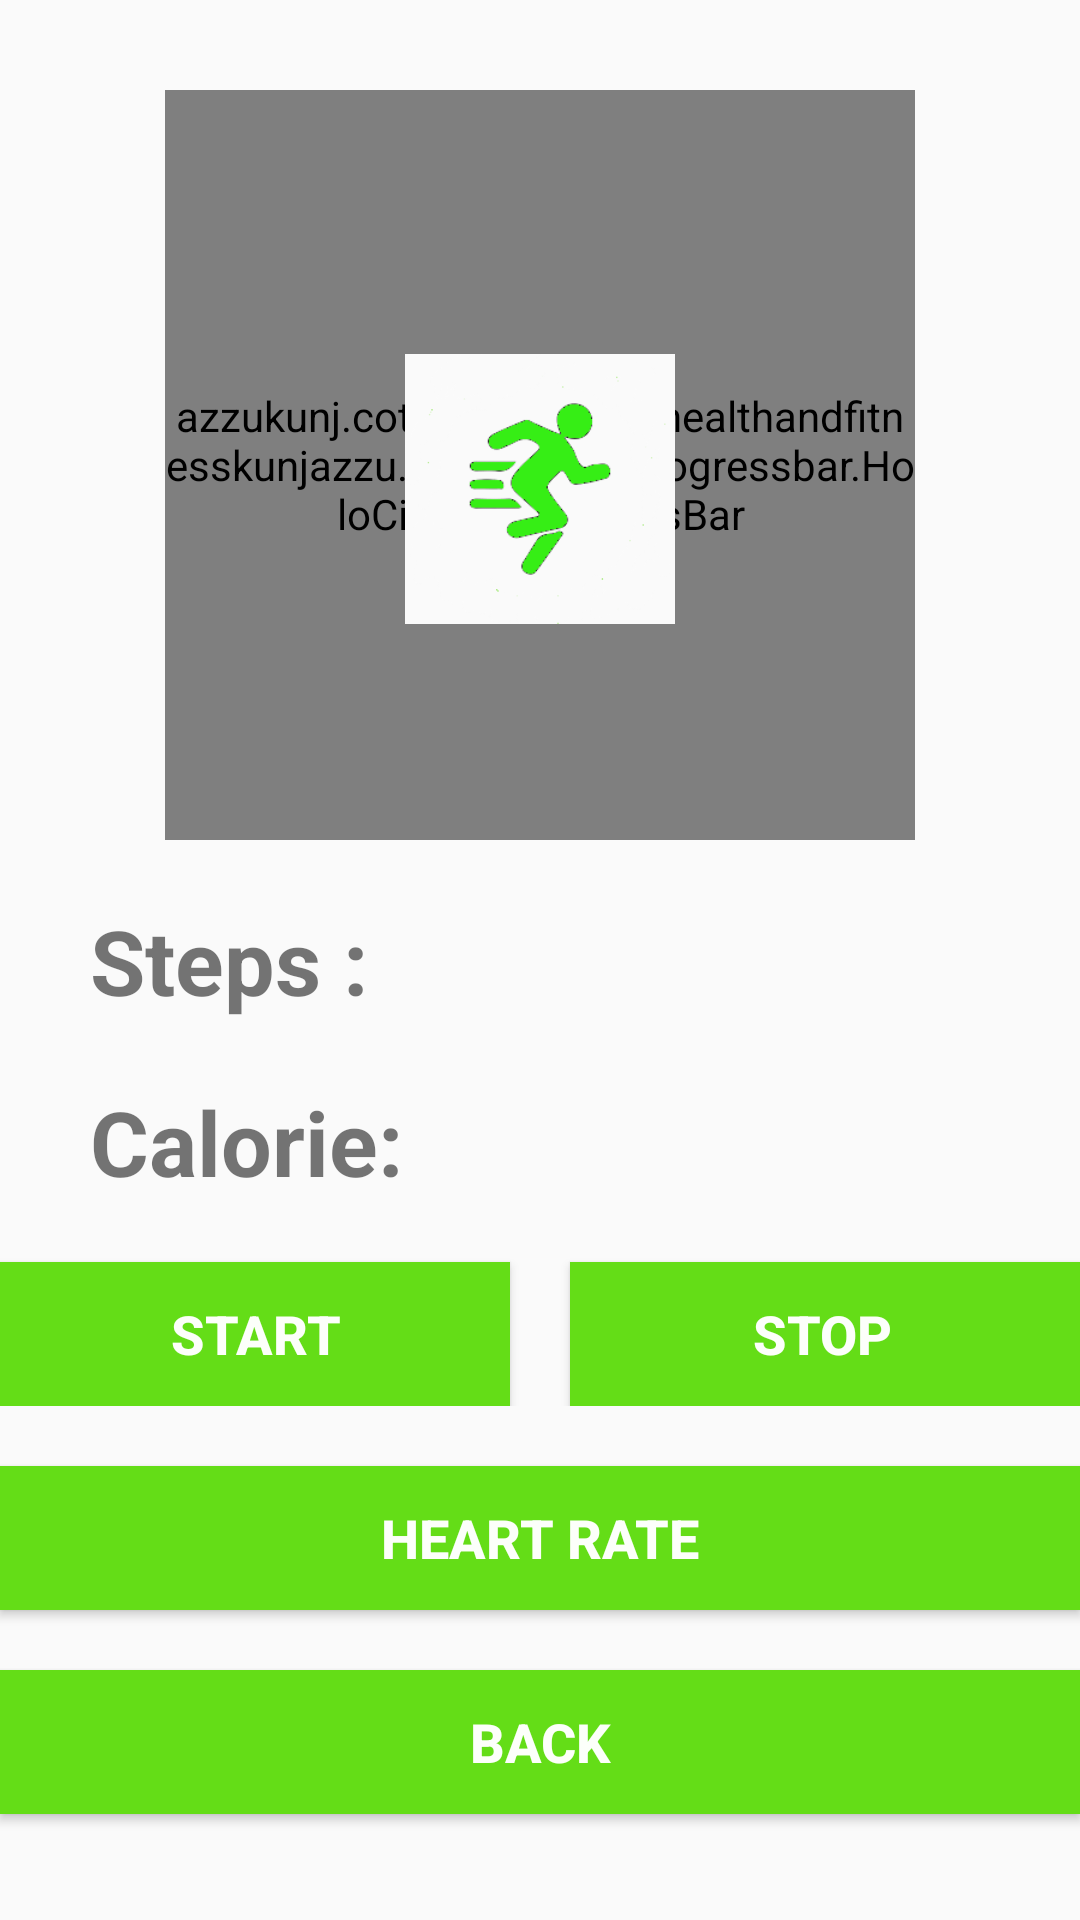

Icons on this 1080px x 1920px Android screen, each with the point to tap as point (x, y):
stepicon: point (540, 489)
